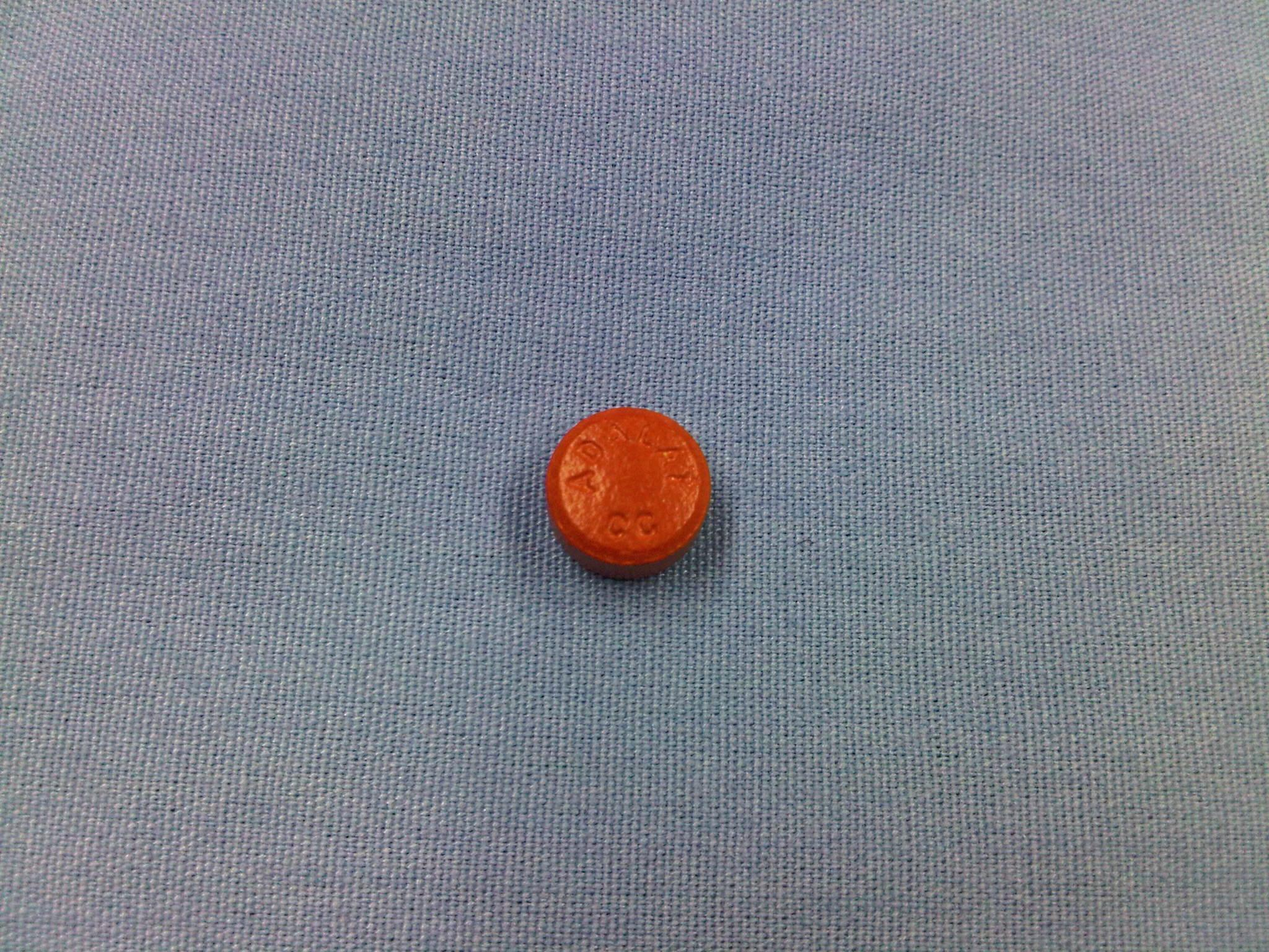Pill: (538, 397, 720, 589)
